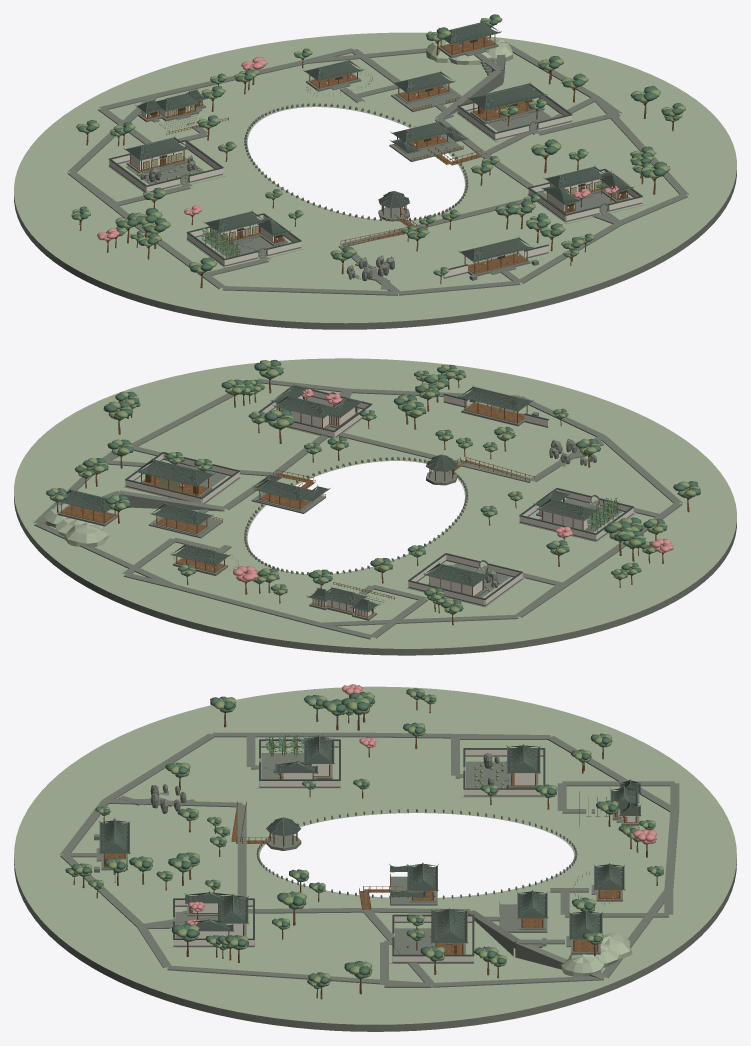
Rendered from overview-low.glb.
3 views of the same model, one above another, from view 1: azimuth 30°, elevation 25°; view 2: azimuth 150°, elevation 25°; view 3: azimuth 270°, elevation 25° (orthographic). The views are drawn at different scales.
Visible parts, largest first — view 1: garden_low_earth, garden_low_stone, garden_low_roof, garden_low_tile, garden_low_leaf, garden_low_wood, garden_low_lightleaf, garden_low_plaster, garden_low_flower, garden_low_paper, garden_low_darkwood; view 2: garden_low_earth, garden_low_stone, garden_low_roof, garden_low_leaf, garden_low_tile, garden_low_lightleaf, garden_low_plaster, garden_low_wood, garden_low_flower; view 3: garden_low_earth, garden_low_stone, garden_low_roof, garden_low_leaf, garden_low_tile, garden_low_lightleaf, garden_low_wood, garden_low_plaster, garden_low_flower.
Boxes of the visible parts, box(x1,y1,x2,y2) form: garden_low_earth: box(14, 32, 736, 323); garden_low_stone: box(14, 36, 736, 329); garden_low_roof: box(108, 23, 642, 269); garden_low_tile: box(123, 22, 634, 262); garden_low_leaf: box(72, 14, 683, 275); garden_low_wood: box(79, 26, 673, 288); garden_low_lightleaf: box(71, 16, 685, 275); garden_low_plaster: box(109, 88, 642, 277); garden_low_flower: box(97, 57, 618, 240); garden_low_paper: box(144, 100, 626, 241); garden_low_darkwood: box(143, 36, 626, 259); garden_low_earth: box(14, 358, 736, 648); garden_low_stone: box(14, 378, 736, 655); garden_low_roof: box(60, 385, 633, 611); garden_low_leaf: box(46, 360, 700, 614); garden_low_tile: box(54, 383, 599, 611); garden_low_lightleaf: box(49, 360, 700, 613); garden_low_plaster: box(125, 391, 633, 616); garden_low_wood: box(56, 379, 689, 625); garden_low_flower: box(233, 389, 673, 582); garden_low_earth: box(14, 686, 736, 1024); garden_low_stone: box(14, 732, 736, 1031); garden_low_roof: box(100, 737, 640, 956); garden_low_leaf: box(65, 688, 663, 988); garden_low_tile: box(99, 735, 641, 943); garden_low_lightleaf: box(68, 689, 663, 988); garden_low_wood: box(73, 700, 657, 999); garden_low_plaster: box(114, 741, 635, 961); garden_low_flower: box(186, 684, 657, 925).
Bounding box in the file's own units: 270 × 20.58 × 244.
14 materials, 2 textured.
